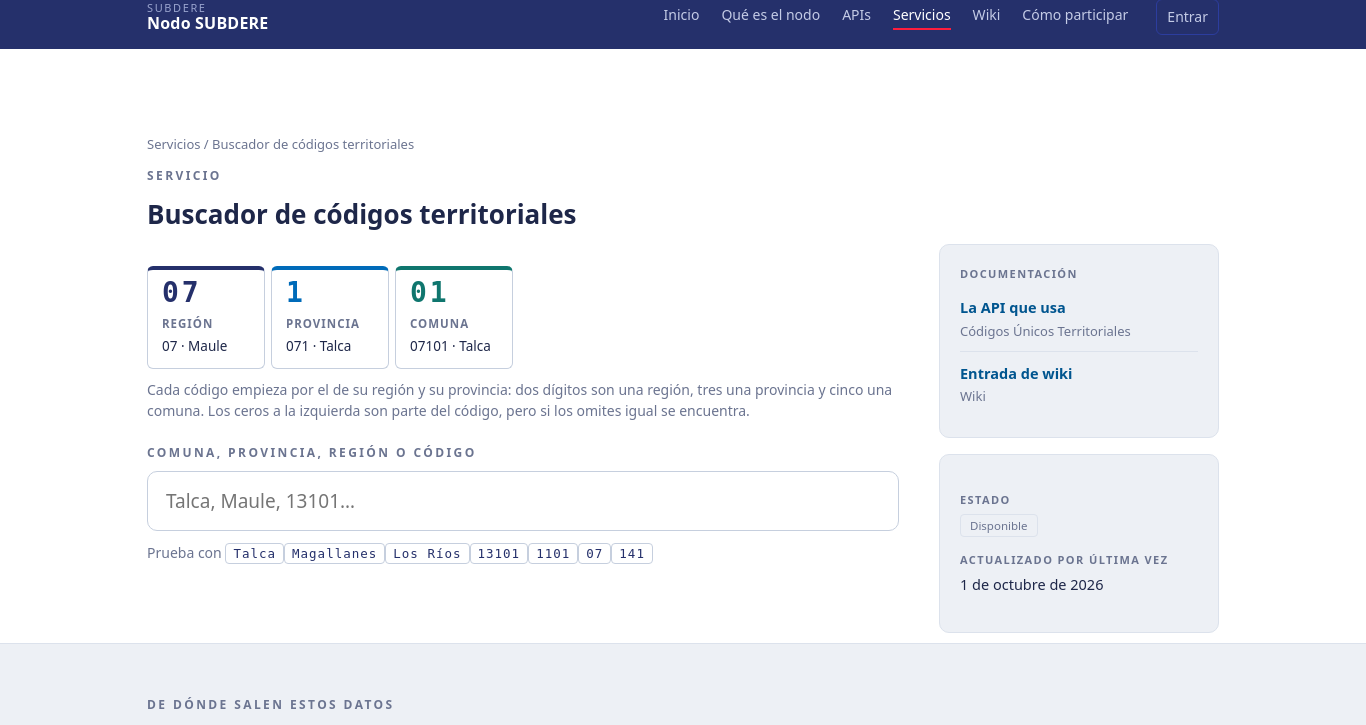
Test: 3. La respuesta con datos de muestra se marca en pantalla › en el buscador CUT
The width and height of the screenshot is (1366, 725).
Type "Talca" into the search field labelled "Comuna, provincia, región o código" at (523, 501), box x1=147 y1=471 x2=899 y2=531
(page scrolled)
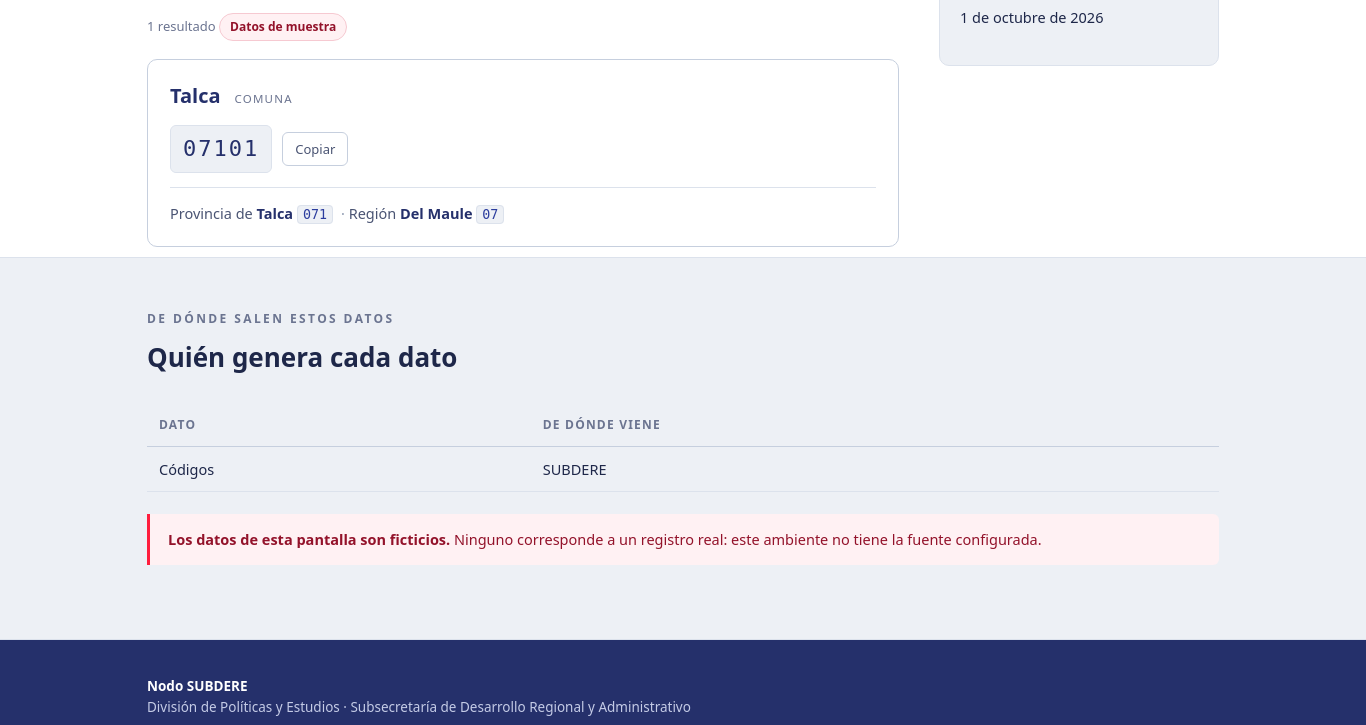
Now the text "Los datos de esta pantalla son ficticios." is shown, box x1=168 y1=529 x2=450 y2=549
